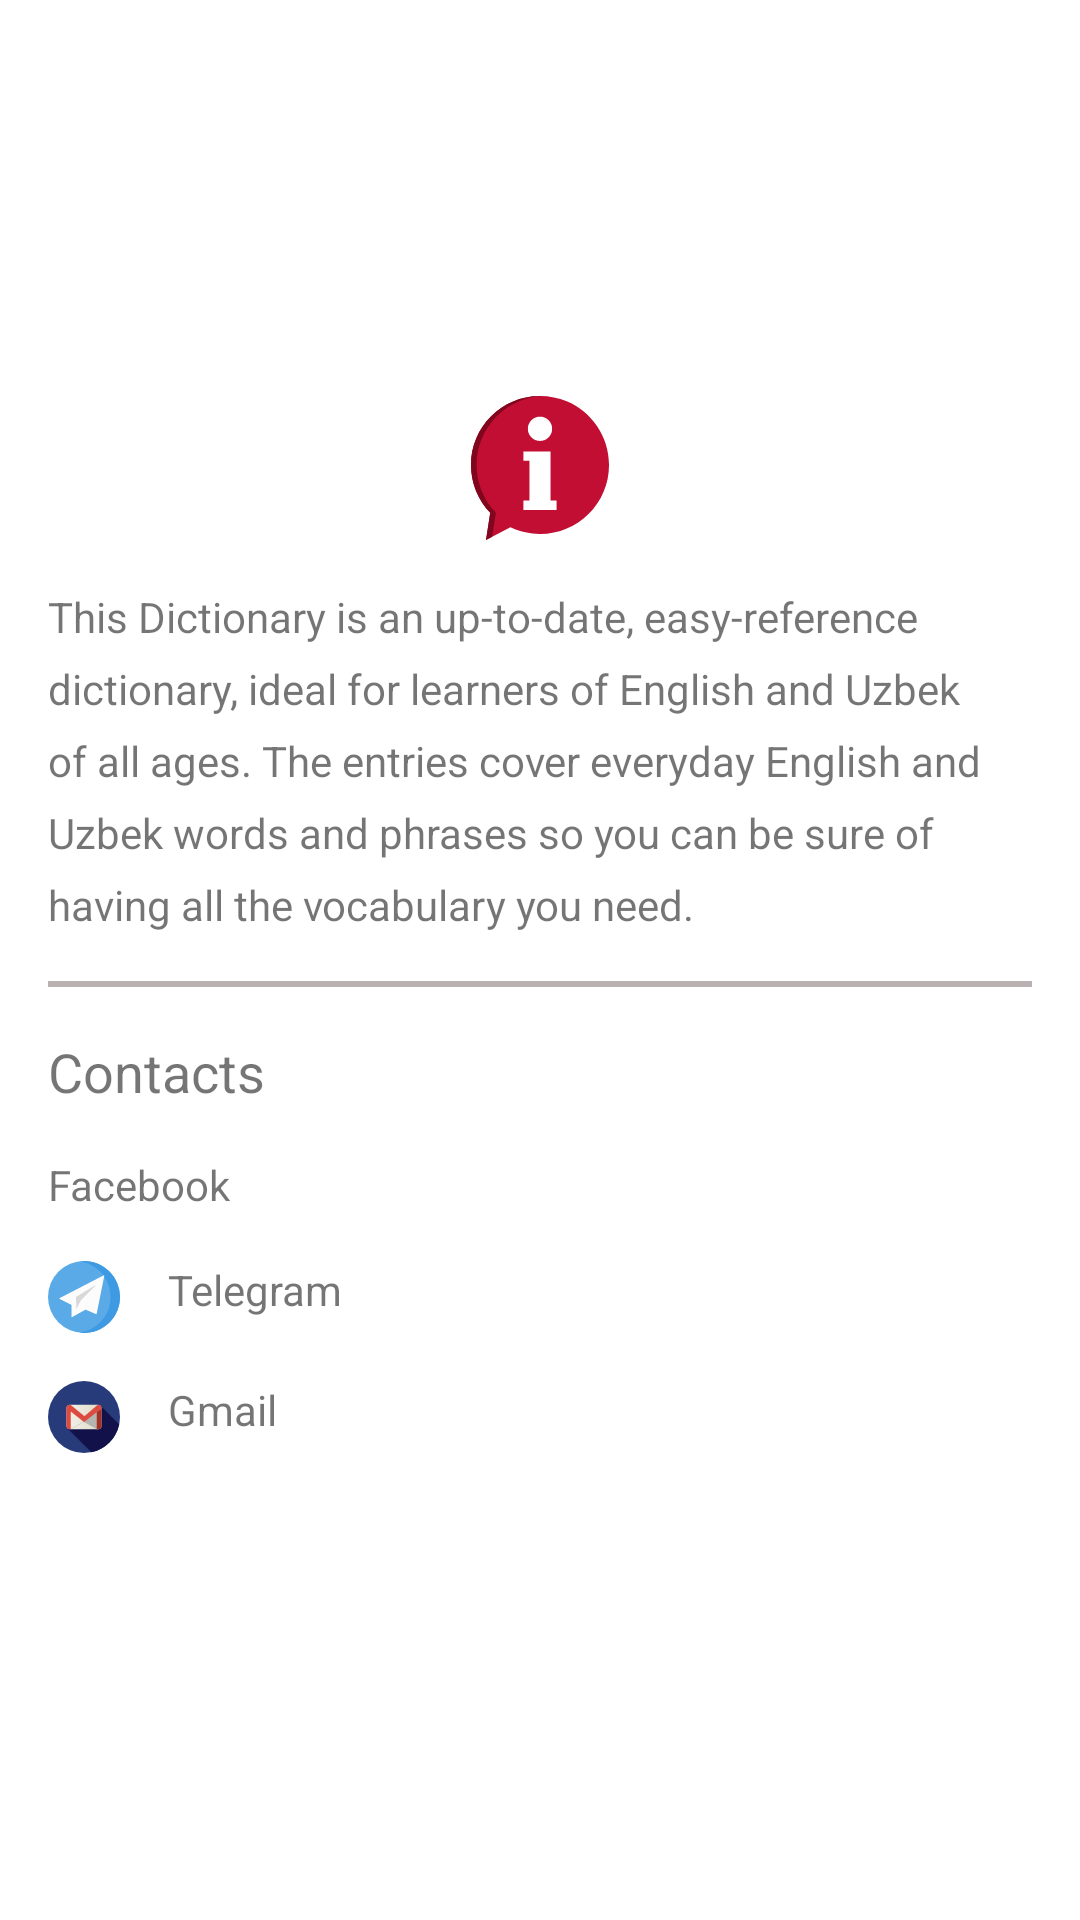

Icons on this 1080px x 1920px Android screen, each with its box as (x1, y1, x2, y2):
info: (471, 396, 609, 540)
